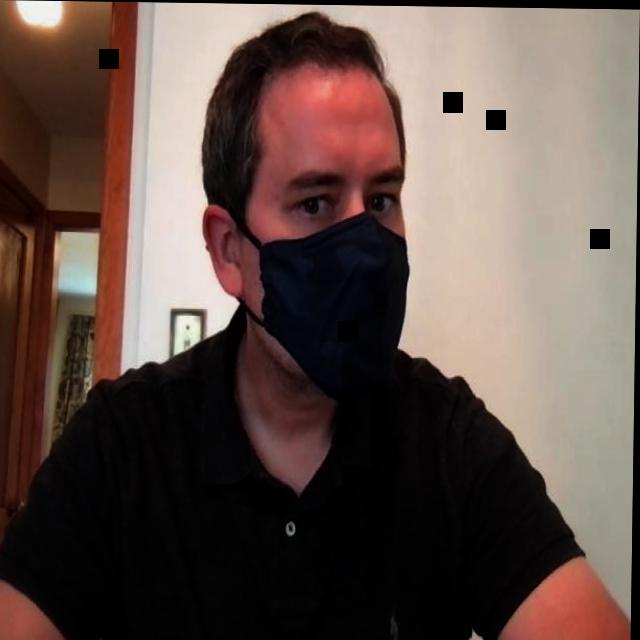Mask: (198, 8, 415, 405)
